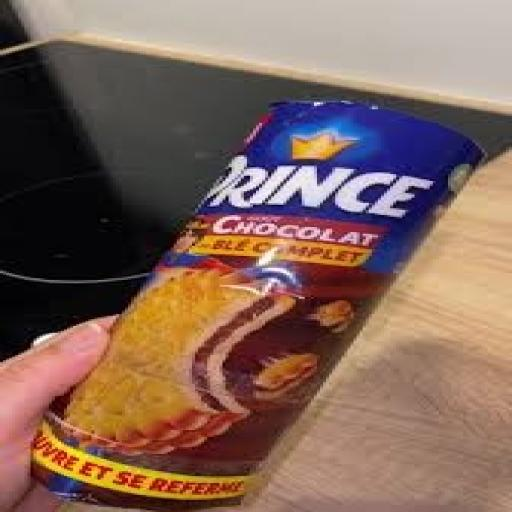prince: (46, 68, 471, 512)
